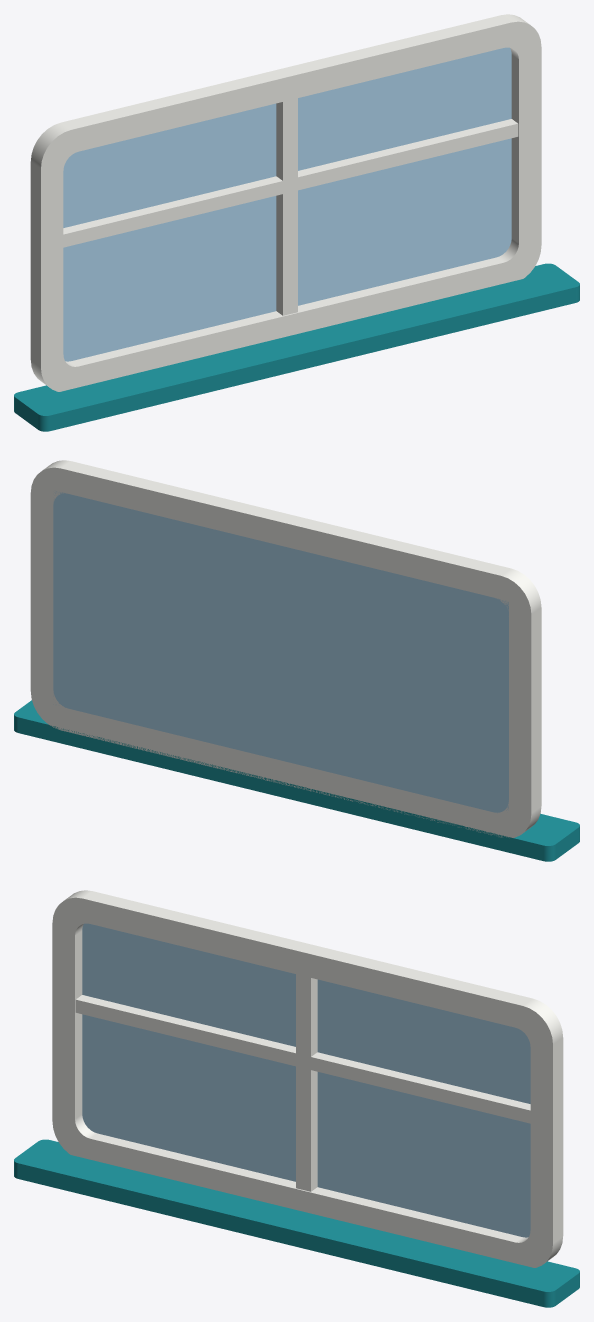
File: WindowFrame.glb
The picture shows the model from 3 angles, top to bottom: view 1: azimuth 30°, elevation 25°; view 2: azimuth 150°, elevation 25°; view 3: azimuth 330°, elevation 25°; orthographic projection.
Visible parts, largest first — view 1: glassBlue, wallTrim (×2), counterFront; view 2: glassBlue, wallTrim, counterFront; view 3: glassBlue, wallTrim (×2), counterFront.
Boxes of the visible parts, left/top/right/bottom form: glassBlue: left=63, top=47, right=511, bottom=361; wallTrim (×2): left=30, top=14, right=541, bottom=391; counterFront: left=14, top=263, right=579, bottom=431; glassBlue: left=53, top=491, right=508, bottom=813; wallTrim: left=30, top=460, right=541, bottom=837; counterFront: left=14, top=700, right=579, bottom=861; glassBlue: left=82, top=923, right=530, bottom=1237; wallTrim (×2): left=52, top=890, right=563, bottom=1267; counterFront: left=14, top=1139, right=579, bottom=1307.
Size of the model in its own units: 2.16 by 1.05 by 0.22.
